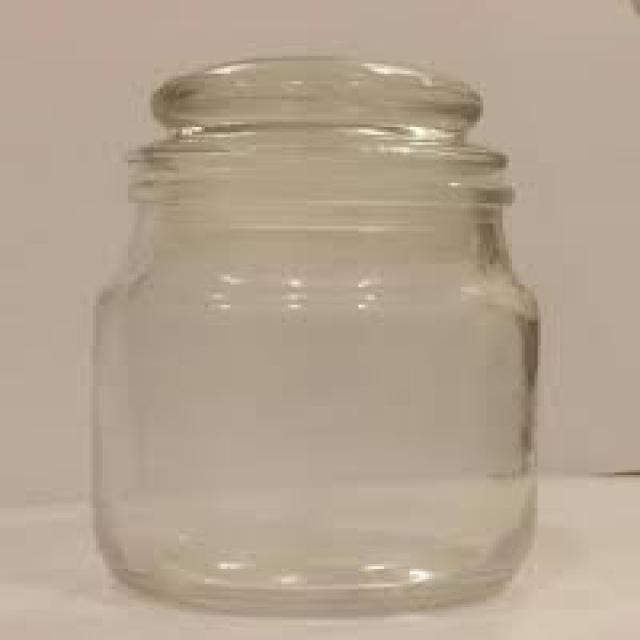glass: (87, 56, 538, 617)
